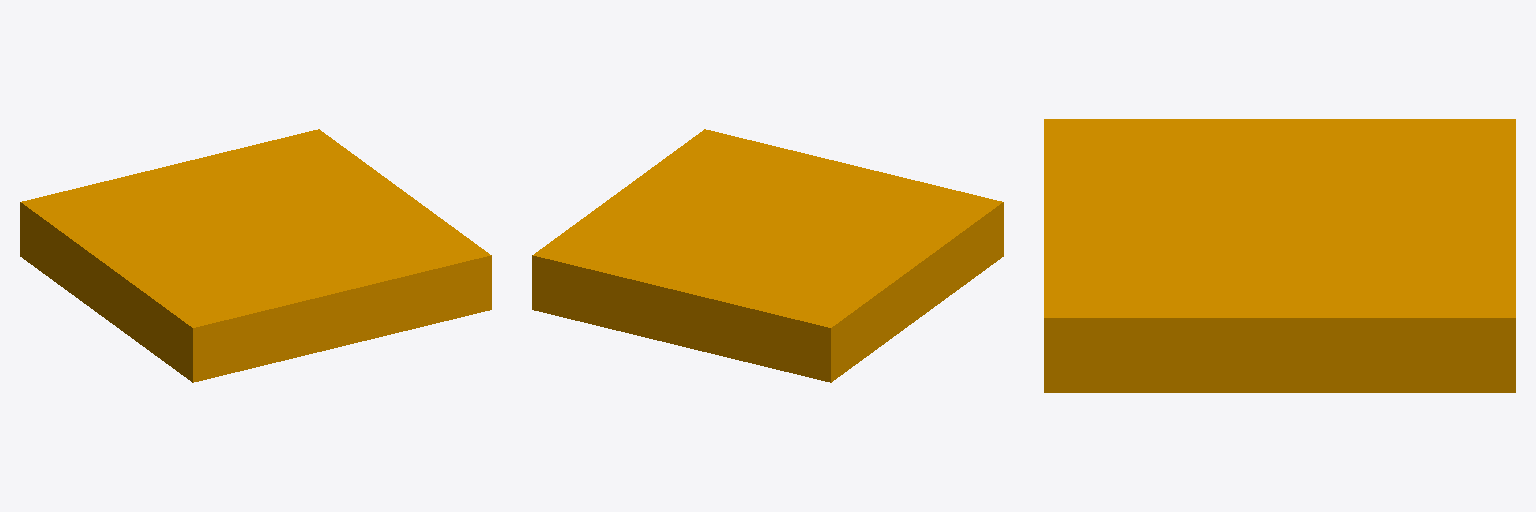
The robot description file, URDF, robot "ar_tag_robot":
<robot name="ar_tag_robot">

	<!-- * * * Link Definitions * * * -->

    <link name="simple_box_base_link">
 	    <inertial>
            <origin xyz="0 0 0" rpy="0 0 0"/>
            <mass value="1.0" />
            <inertia ixx="0.0741666666667" ixy="0.0" ixz="0.0" iyy="0.0585416666667" iyz="0.0" izz="0.0260416666667"/>
        </inertial>
        <collision>
            <origin xyz="0 0 0" rpy="0 0 0"/>
            <geometry>
                <box size="0.2 0.2 0.2"/>
            </geometry>
        </collision>
        <visual>
            <origin rpy="0.0 0 0" xyz="0 0 0"/>
            <geometry>
                <!--<box size="0.8 0.8 0.2"/>-->
                <mesh filename="package://ar_tag_urdf/meshes/ar_tag.dae"/>
            </geometry>
        </visual>
    </link>
    
    <gazebo reference="simple_box_base_link">
        <kp>100000.0</kp>
        <kd>100000.0</kd>
        <mu1>0.1</mu1>
        <mu2>0.1</mu2>
        <fdir1>1 0 0</fdir1>
    </gazebo>

</robot>

--- What the picture shows (computed from the rendered views, not written in the file) ---
The picture shows the robot from 3 angles, left to right: view 1: azimuth 30°, elevation 25°; view 2: azimuth 150°, elevation 25°; view 3: azimuth 270°, elevation 25°; orthographic projection.
Robot: ar_tag_robot — 1 links, 0 joints (none); root link simple_box_base_link; default pose: all joints at 0.
Links seen in each view (by area): view 1: simple_box_base_link; view 2: simple_box_base_link; view 3: simple_box_base_link.
Link boxes in pixels (x1,y1,x2,y2): simple_box_base_link: [20, 129, 491, 382]; simple_box_base_link: [532, 129, 1003, 382]; simple_box_base_link: [1044, 119, 1515, 392].
Bounding box of the posed robot: 0.08 × 0.08 × 0.014 m (x, y, z).
1 mesh visuals loaded from 1 distinct referenced files (1 Collada DAE).